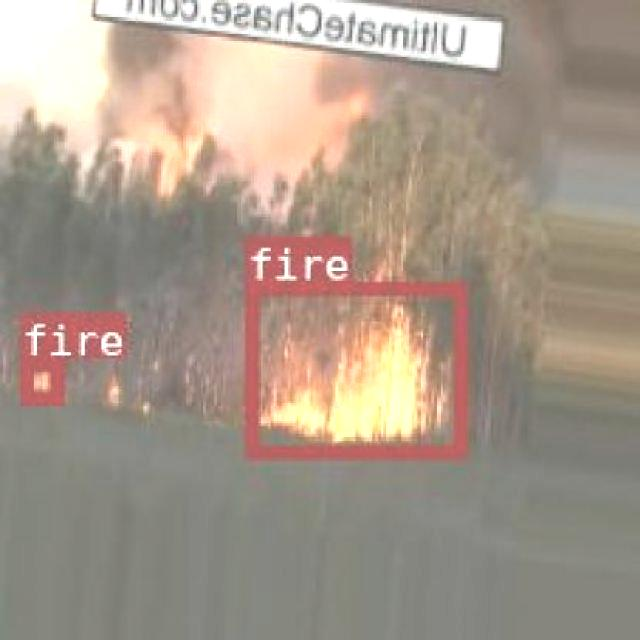fire: (244, 282, 462, 456), (19, 356, 61, 401)
